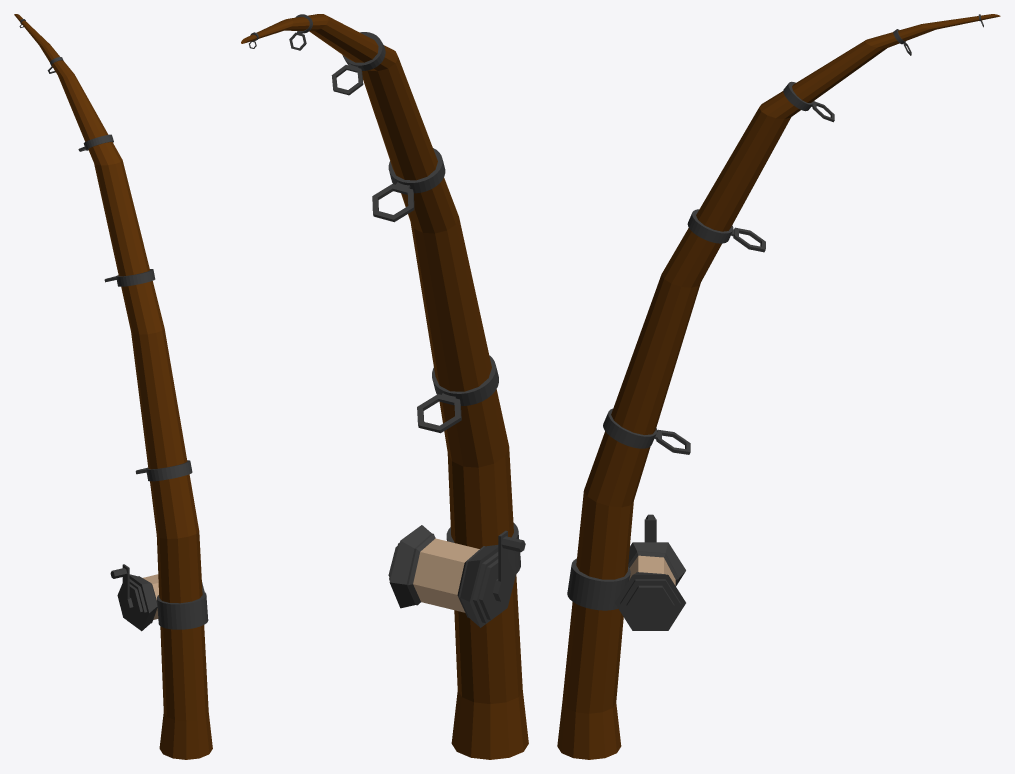
Rendered from BASIC FISHING ROD.fbx.
3 renders of one model, left to right at view 1: azimuth 30°, elevation 25°; view 2: azimuth 150°, elevation 25°; view 3: azimuth 270°, elevation 25°, orthographic. The views are drawn at different scales.
Parts seen in each view (by area): view 1: Cylinder.001, Cylinder.002, Circle, Circle.001, Circle.002; view 2: Cylinder.001, Cylinder.002, Circle.001, Circle.006, Circle.002, Circle.007, Circle.003; view 3: Cylinder.001, Cylinder.002, Circle, Circle.001.
Boxes of the visible parts, box(x1,y1,x2,y2) form: Cylinder.001: box(14, 14, 212, 759); Cylinder.002: box(110, 564, 204, 631); Circle: box(157, 591, 208, 629); Circle.001: box(146, 460, 192, 481); Circle.002: box(116, 269, 155, 286); Cylinder.001: box(241, 14, 528, 759); Cylinder.002: box(388, 525, 525, 627); Circle.001: box(432, 355, 498, 405); Circle.006: box(417, 393, 461, 433); Circle.002: box(388, 148, 445, 193); Circle.007: box(372, 182, 414, 222); Circle.003: box(342, 32, 385, 70); Cylinder.001: box(557, 14, 1000, 759); Cylinder.002: box(615, 514, 685, 630); Circle: box(567, 558, 630, 610); Circle.001: box(603, 408, 657, 448).
Size of the model in its own units: 499 by 3512 by 1928.
